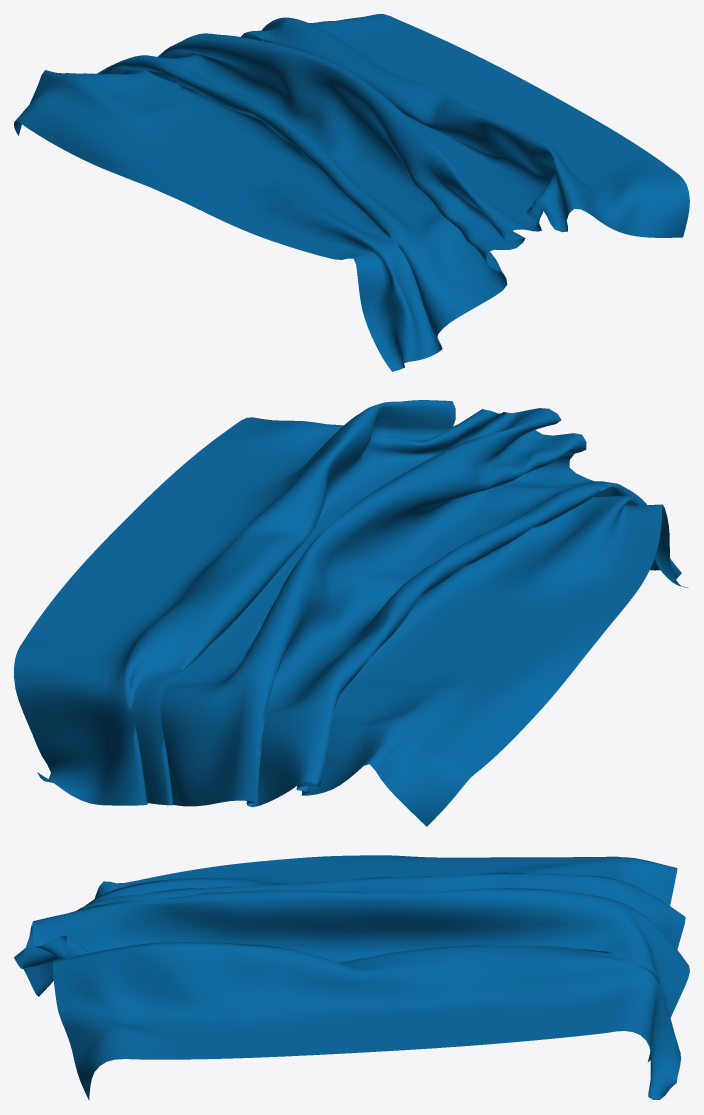
3 renders of one model, top to bottom at view 1: azimuth 30°, elevation 25°; view 2: azimuth 150°, elevation 25°; view 3: azimuth 270°, elevation 25°, orthographic. The views are drawn at different scales.
Visible parts, largest first — view 1: Mesh1_obj_04_1_1_skp275_1_BED_1_1_Spare_Bedroom_Bed1_Model; view 2: Mesh1_obj_04_1_1_skp275_1_BED_1_1_Spare_Bedroom_Bed1_Model; view 3: Mesh1_obj_04_1_1_skp275_1_BED_1_1_Spare_Bedroom_Bed1_Model.
Part boxes in pixels (<box>): Mesh1_obj_04_1_1_skp275_1_BED_1_1_Spare_Bedroom_Bed1_Model: <box>14,14,689,371</box>; Mesh1_obj_04_1_1_skp275_1_BED_1_1_Spare_Bedroom_Bed1_Model: <box>14,400,688,826</box>; Mesh1_obj_04_1_1_skp275_1_BED_1_1_Spare_Bedroom_Bed1_Model: <box>14,855,689,1100</box>.
Bounding box in the file's own units: 0.6024 × 0.1981 × 0.7914.
